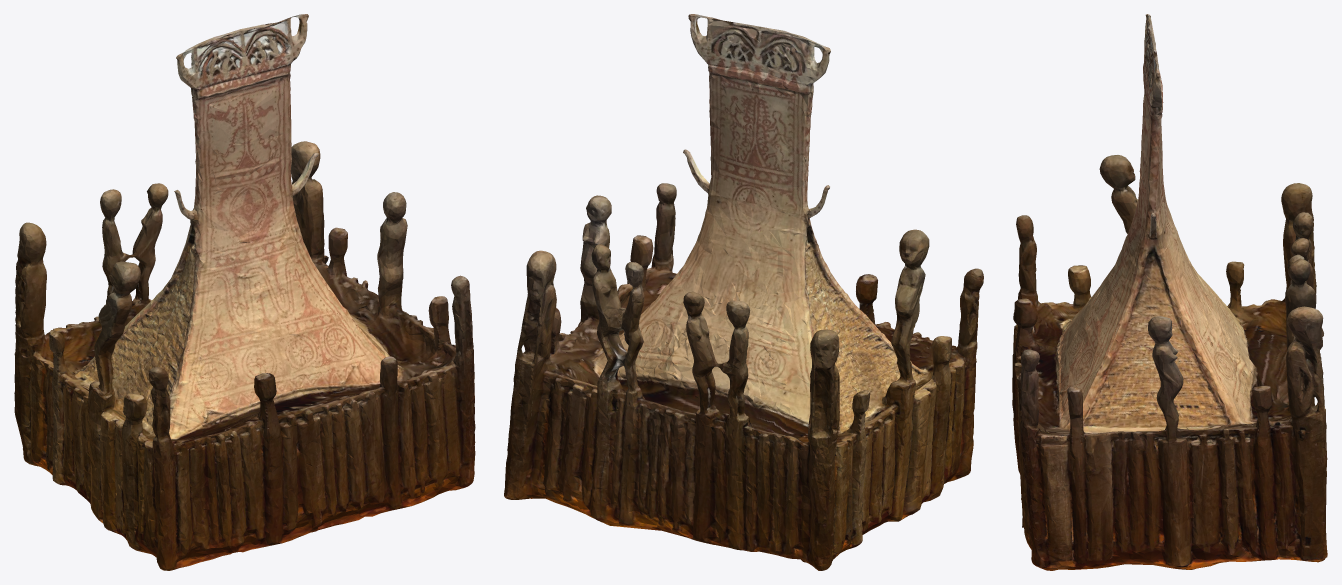
File: Nhà mồ Giarai.glb
The picture shows the model from 3 angles, left to right: view 1: azimuth 30°, elevation 25°; view 2: azimuth 150°, elevation 25°; view 3: azimuth 270°, elevation 25°; orthographic projection.
Bounding box in the file's own units: 1.35 × 1.78 × 1.11.
1 material, 1 textured.
